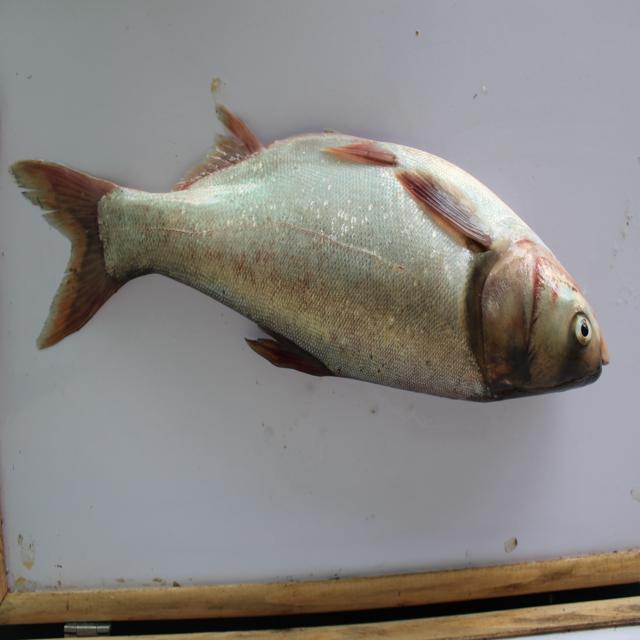SilverCarp: (7, 120, 606, 427)
